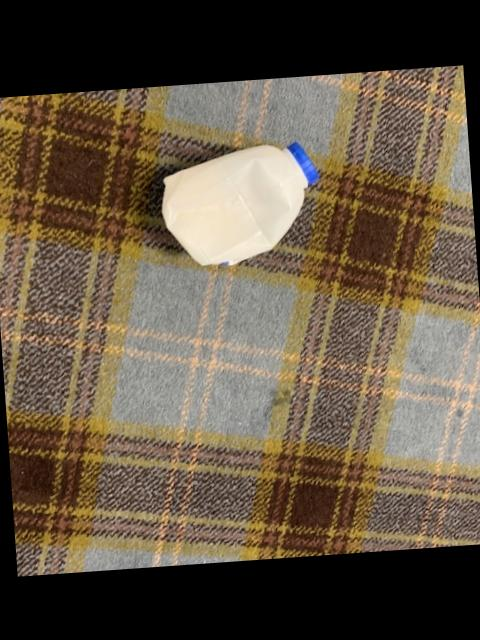plastic: (160, 143, 317, 265)
